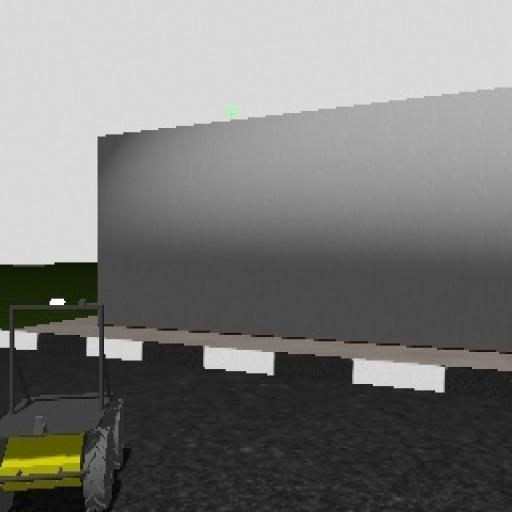huskya200: (1, 286, 126, 512)
